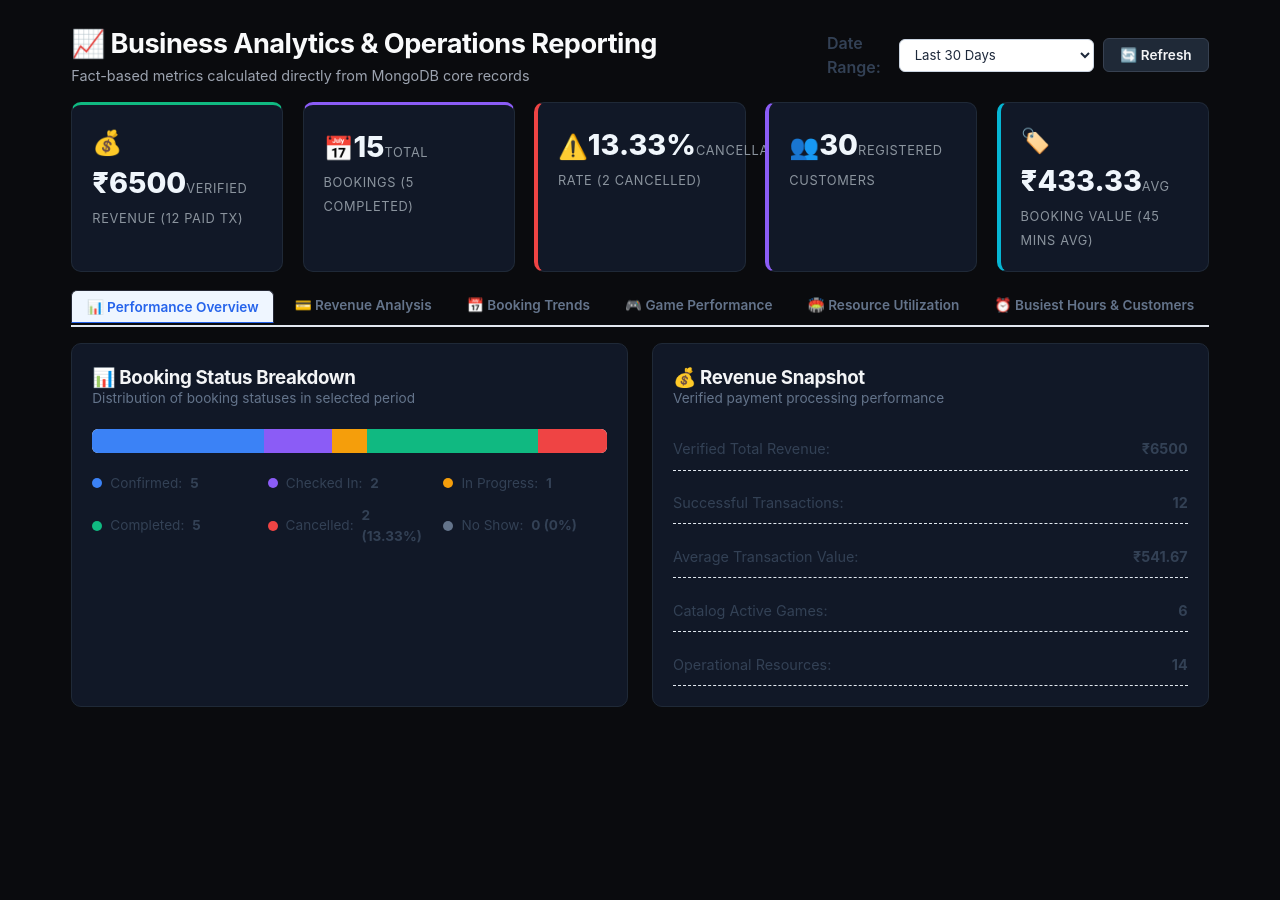
it: Phase 12 Admin Analytics Page Test Suite › 2. Switches tabs cleanly to Revenue, Booking, Games, Resources, and Customers
The image size is (1280, 900).
Expected: the button "📊 Performance Overview" is shown, [71, 290, 274, 323]
# Switch to Revenue tab
Click the button "💳 Revenue Analysis" at (363, 307), box [280, 290, 446, 323]
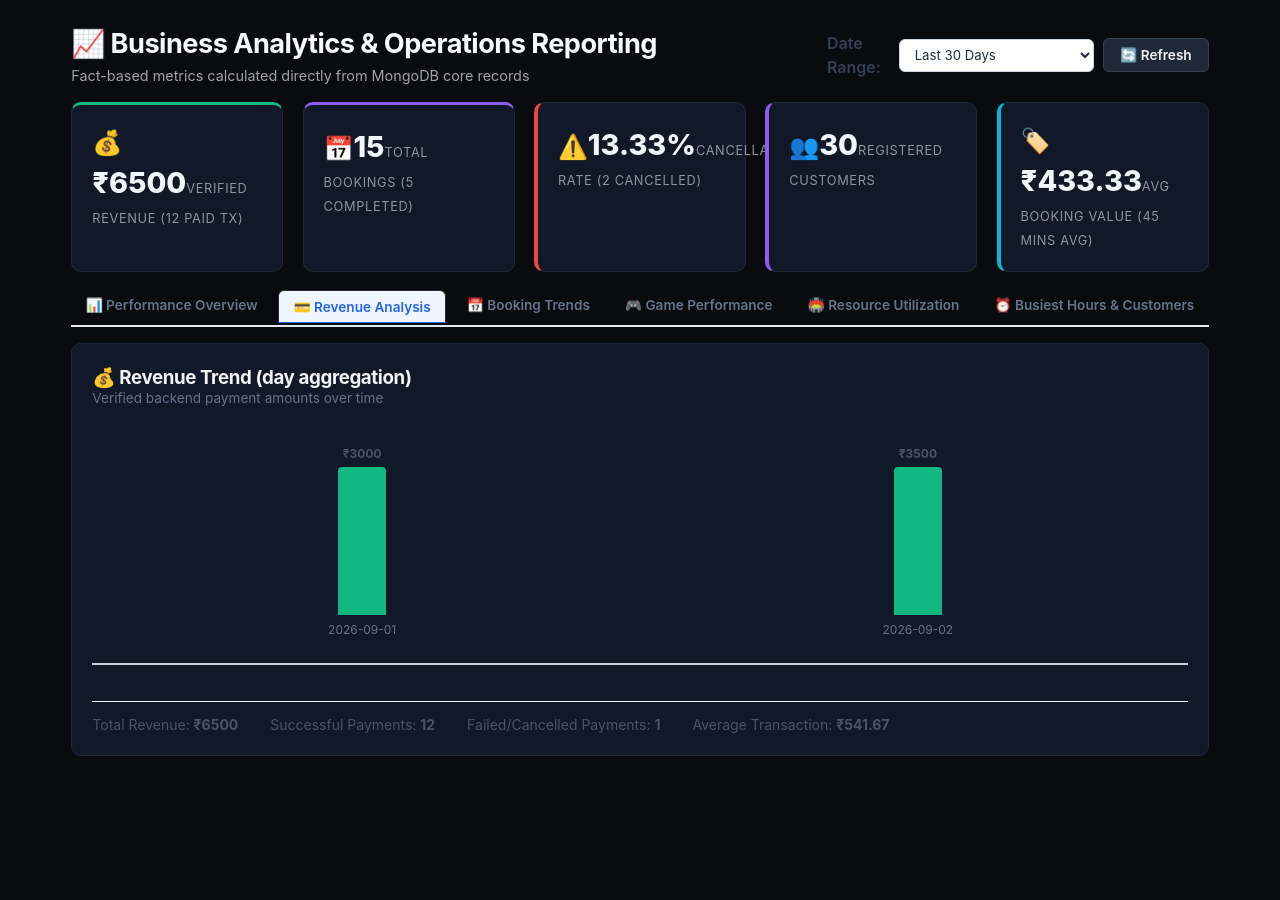
Expected: the heading "💰 Revenue Trend (day aggregation)" is shown, [92, 366, 412, 389]
# Switch to Game Performance tab
Click the button "🎮 Game Performance" at (699, 307), box [611, 290, 787, 323]
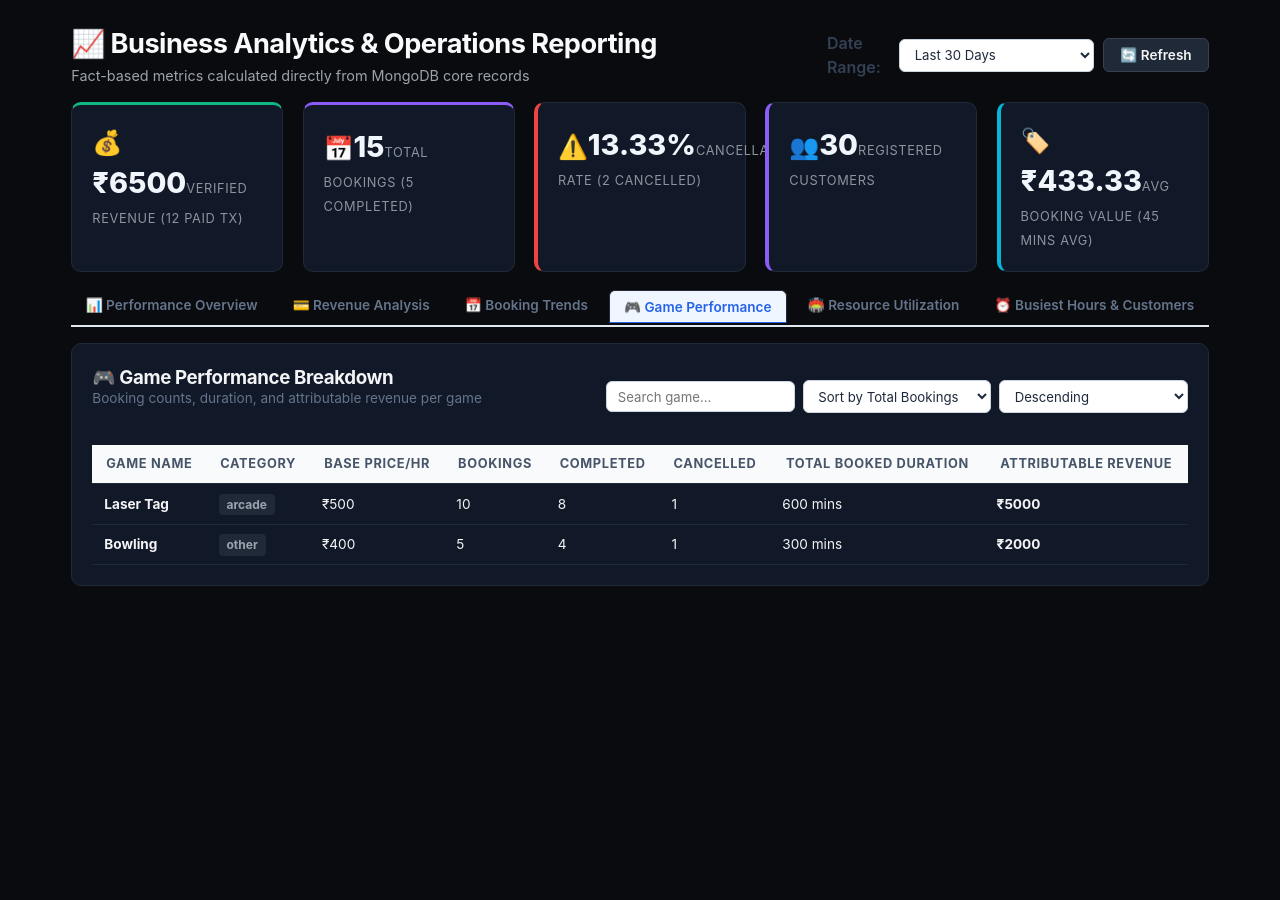
Expected: the text "Laser Tag" is shown, [104, 496, 169, 512]
Expected: the text "Bowling" is shown, [104, 536, 157, 552]
# Switch to Resource Utilization tab
Click the button "🏟️ Resource Utilization" at (884, 307), box [793, 290, 974, 323]
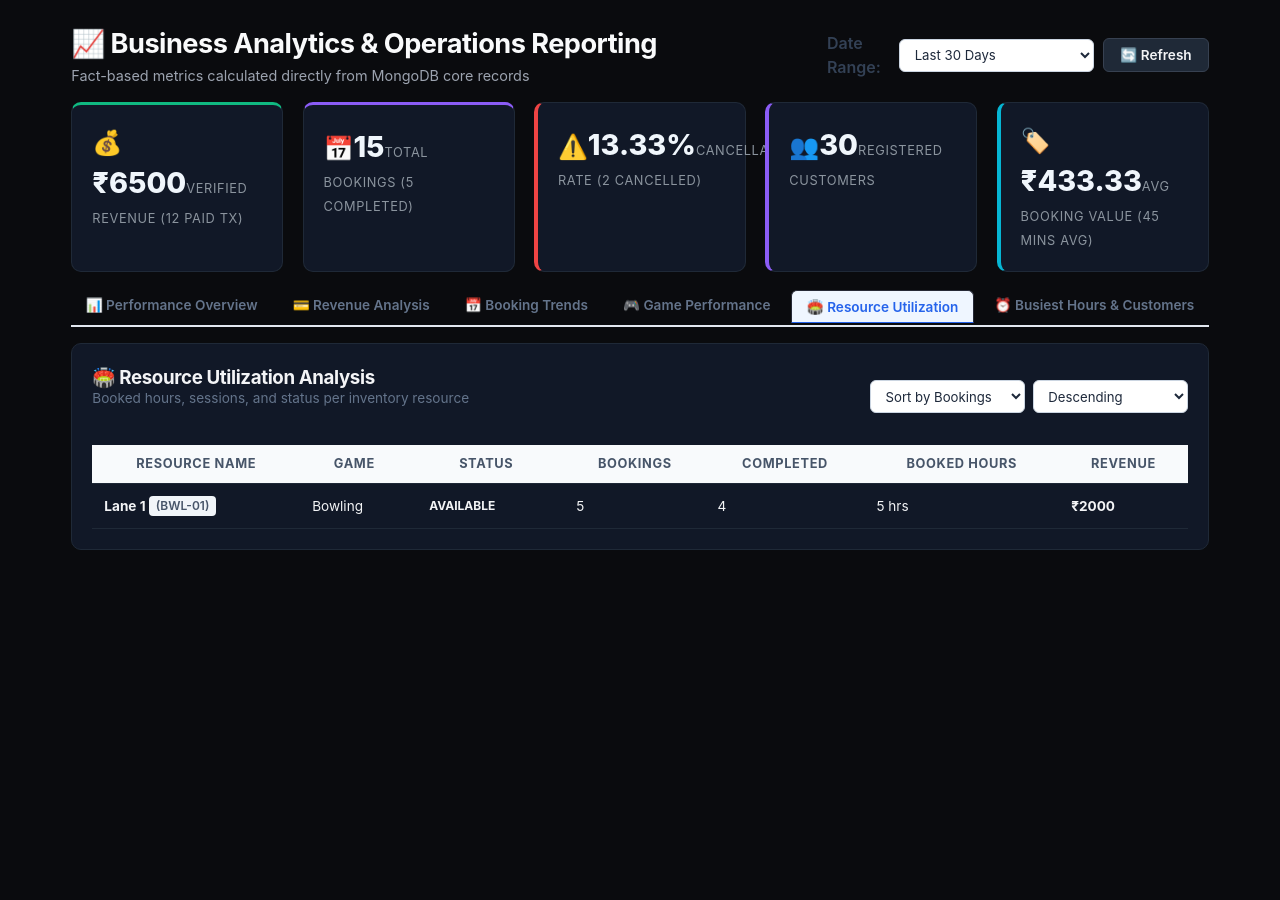
Expected: the text "Lane 1" is shown, [104, 498, 146, 514]
Expected: the text "(BWL-01)" is shown, [149, 496, 216, 516]
# Switch to Peak Hours & Customers tab
Click the button "⏰ Busiest Hours & Customers" at (1094, 307), box [980, 290, 1209, 323]
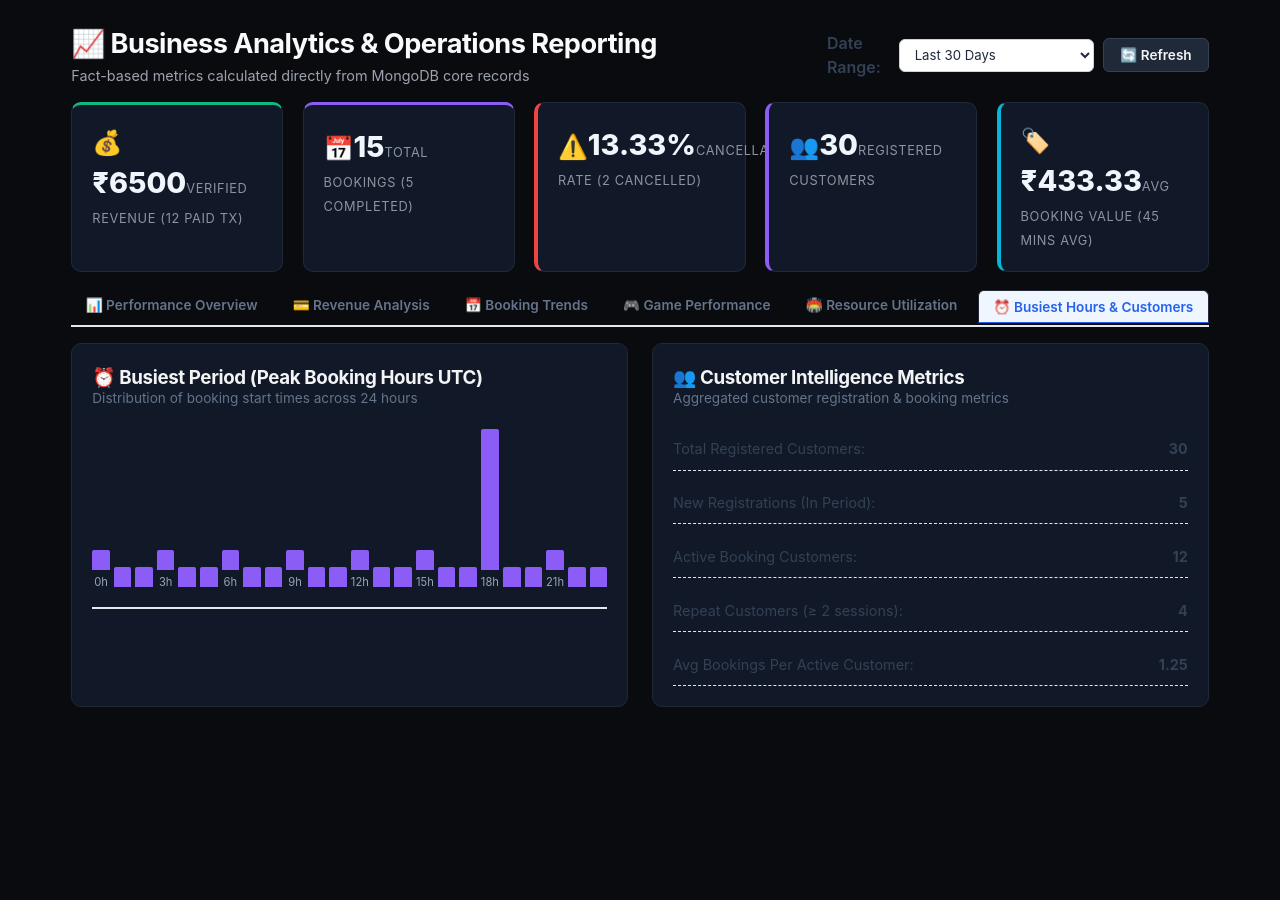
Expected: the heading "👥 Customer Intelligence Metrics" is shown, [673, 366, 964, 389]
